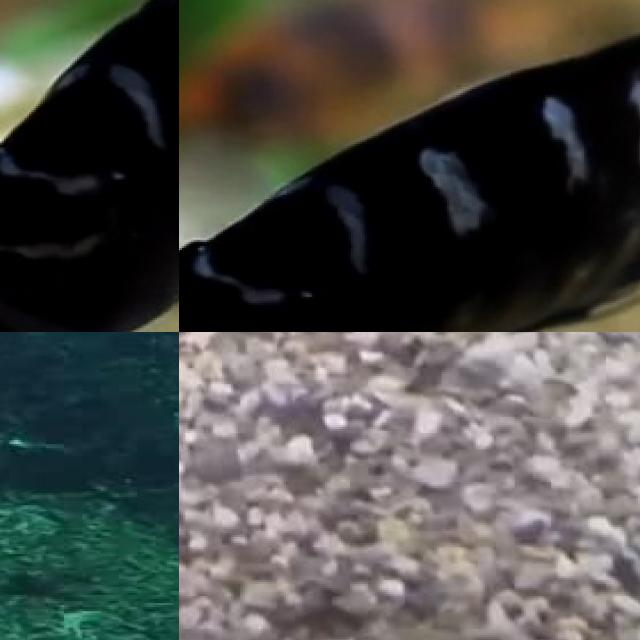fish: (179, 0, 640, 332), (0, 0, 179, 332)
